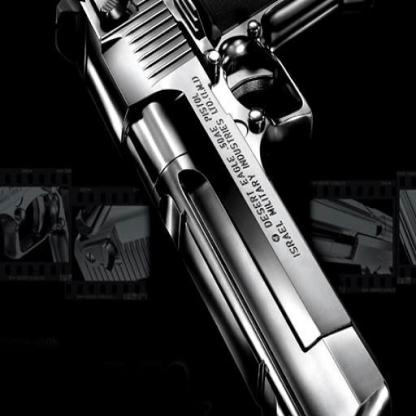gun: (53, 0, 391, 415)
